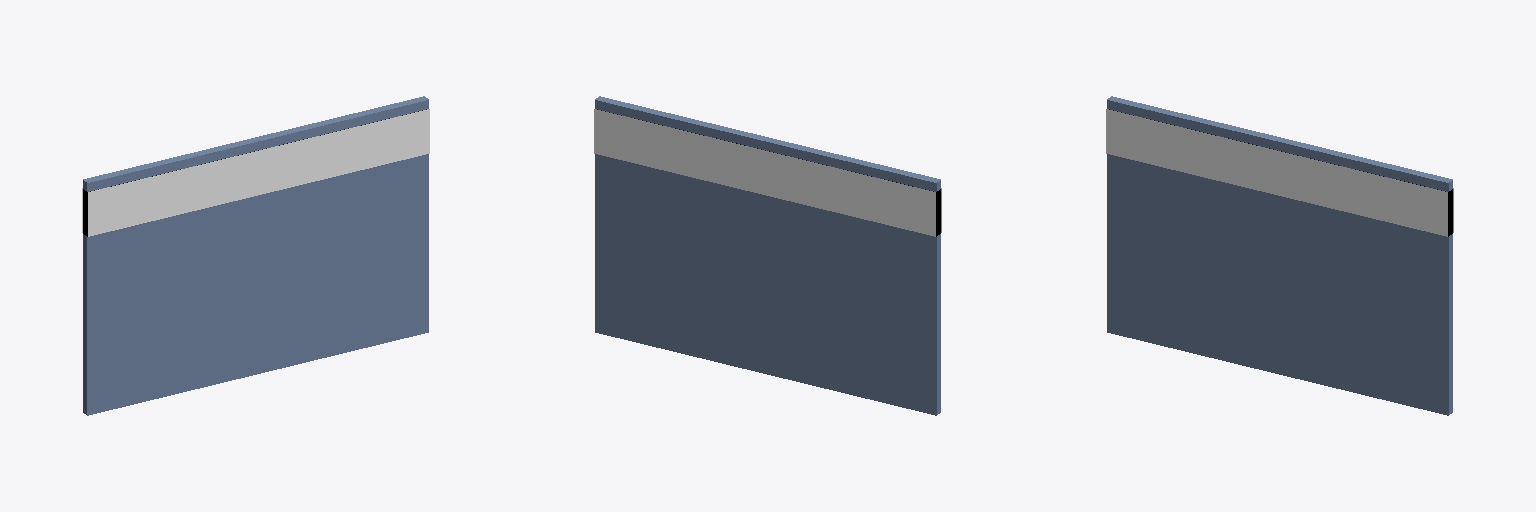
File: Office-Baffle.obj
3 views of the same model, side by side, from view 1: azimuth 30°, elevation 25°; view 2: azimuth 150°, elevation 25°; view 3: azimuth 330°, elevation 25° (orthographic).
Visible parts, largest first — view 1: Office-Baffle; view 2: Office-Baffle; view 3: Office-Baffle.
Part boxes in pixels (x1,y1,x2,y2): Office-Baffle: (82, 96, 429, 415); Office-Baffle: (594, 96, 941, 415); Office-Baffle: (1106, 96, 1453, 415).
Bounding box in the file's own units: 2 × 1.3 × 0.054.